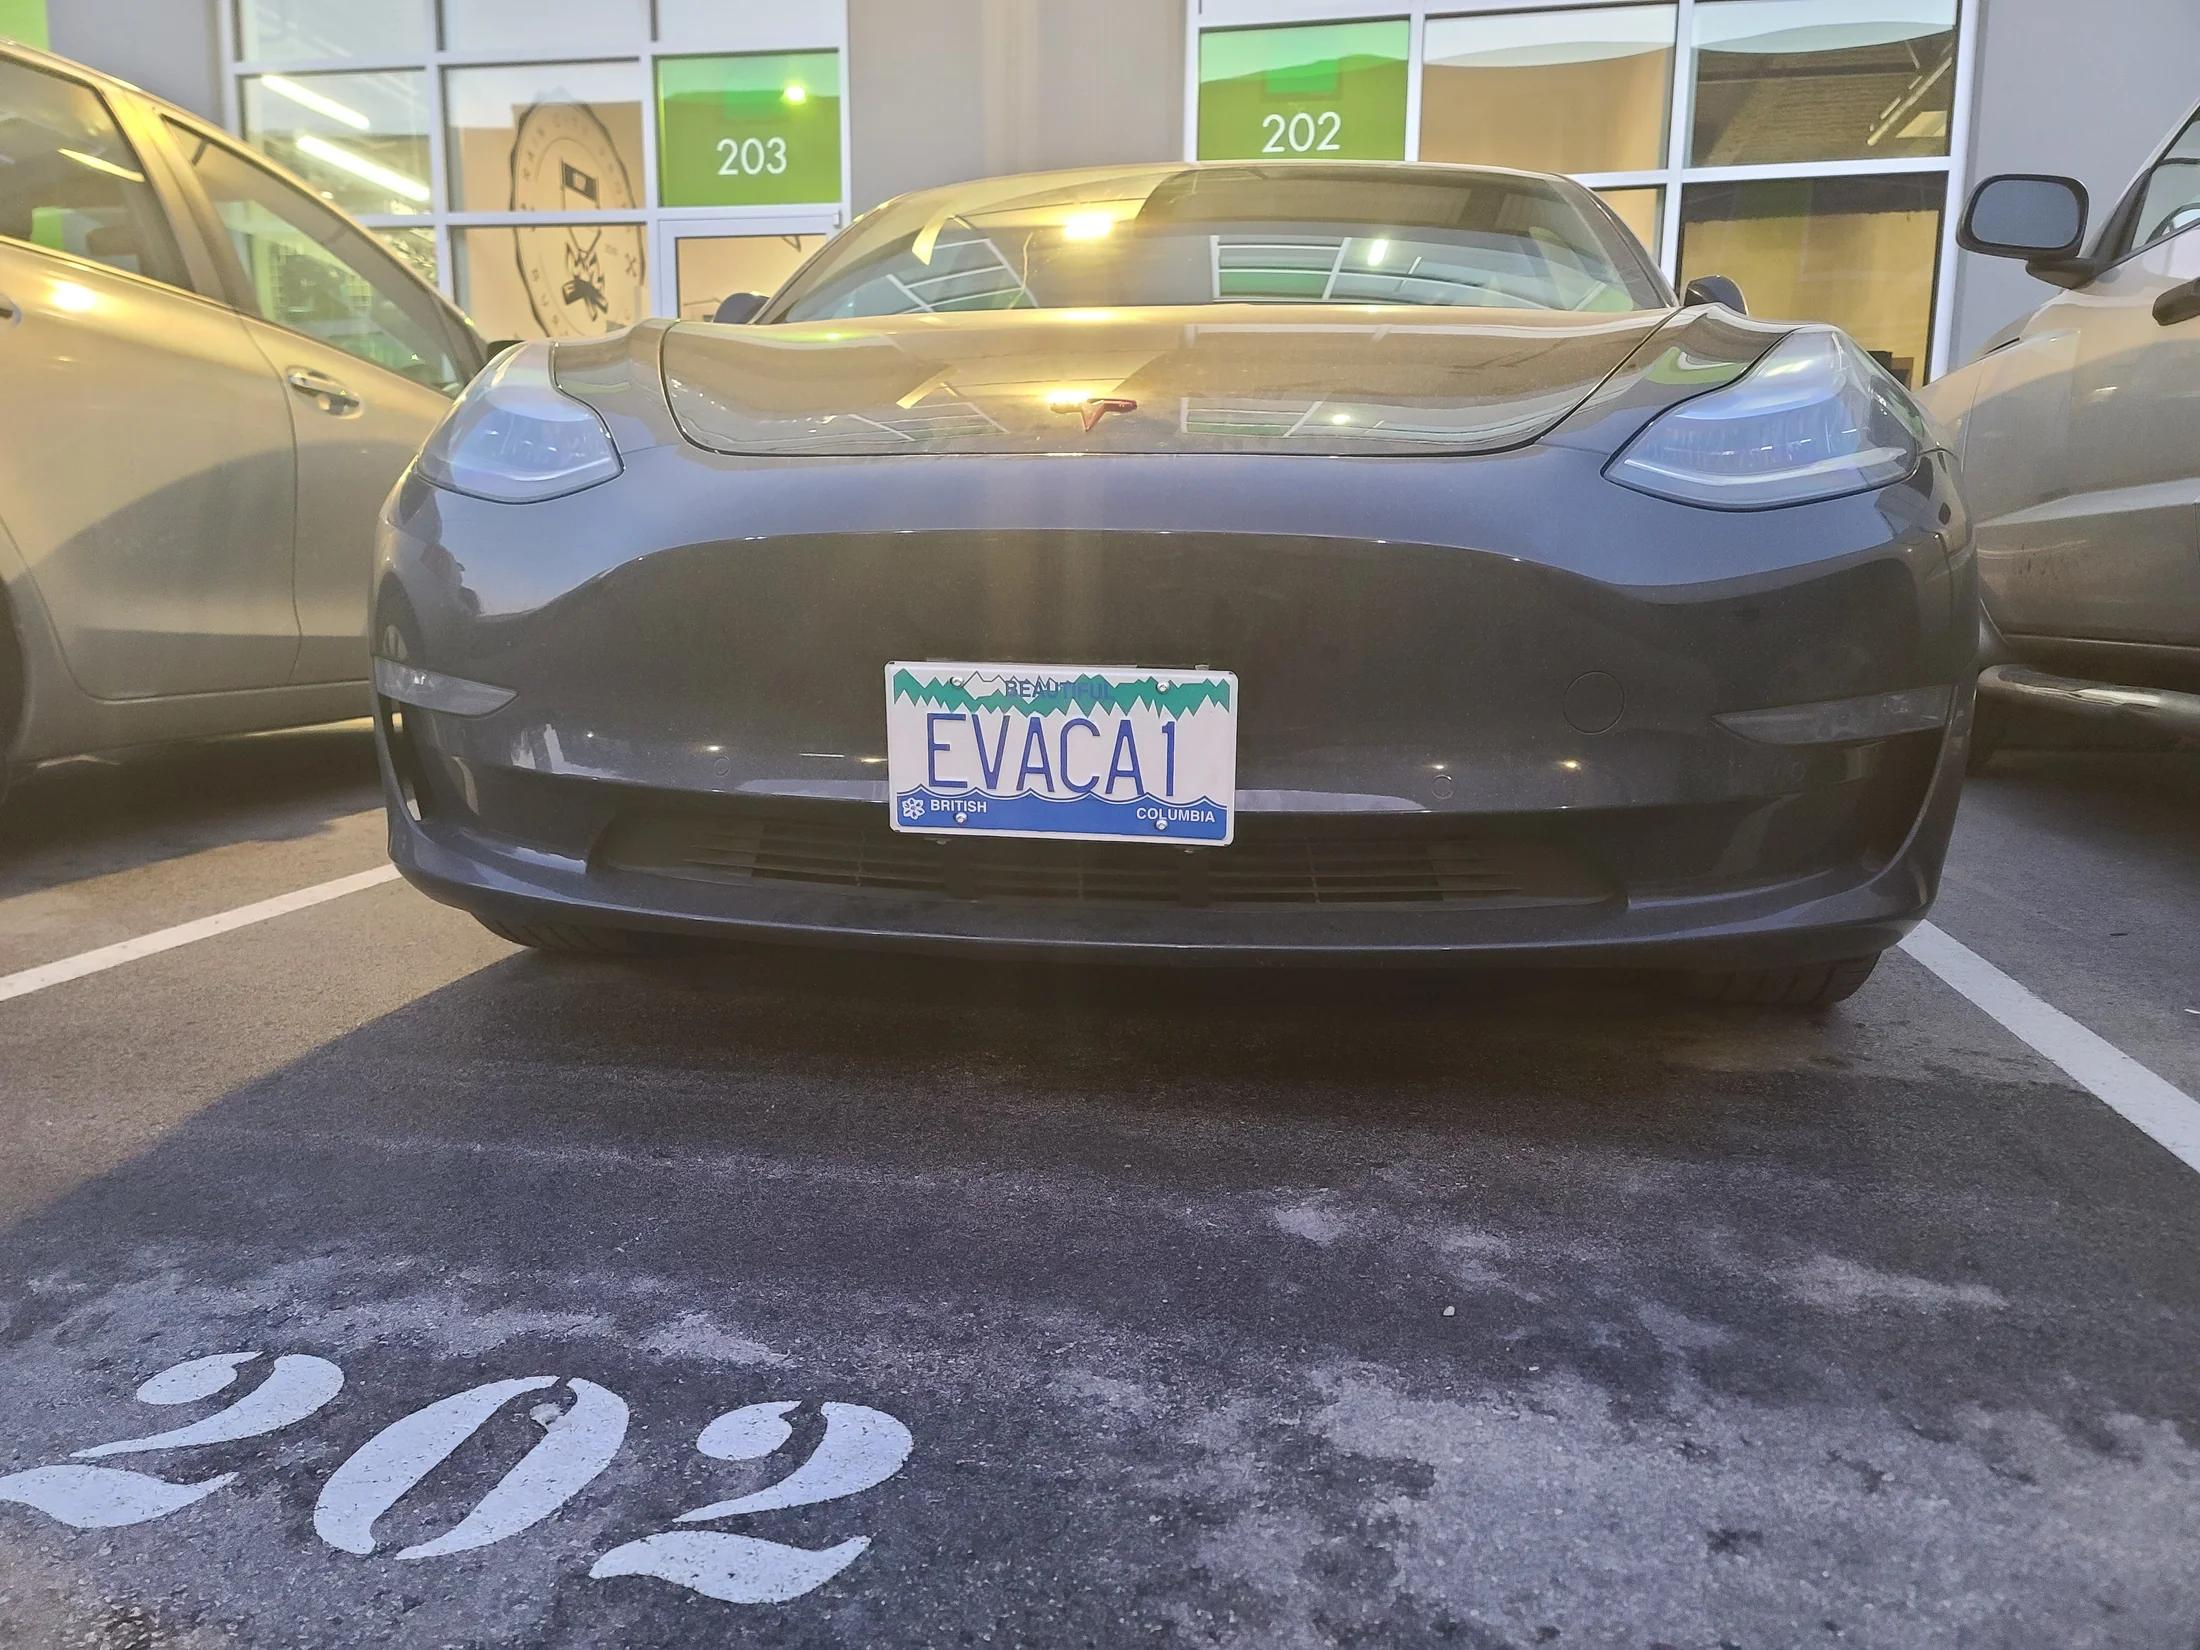licence: (865, 647, 1250, 860)
